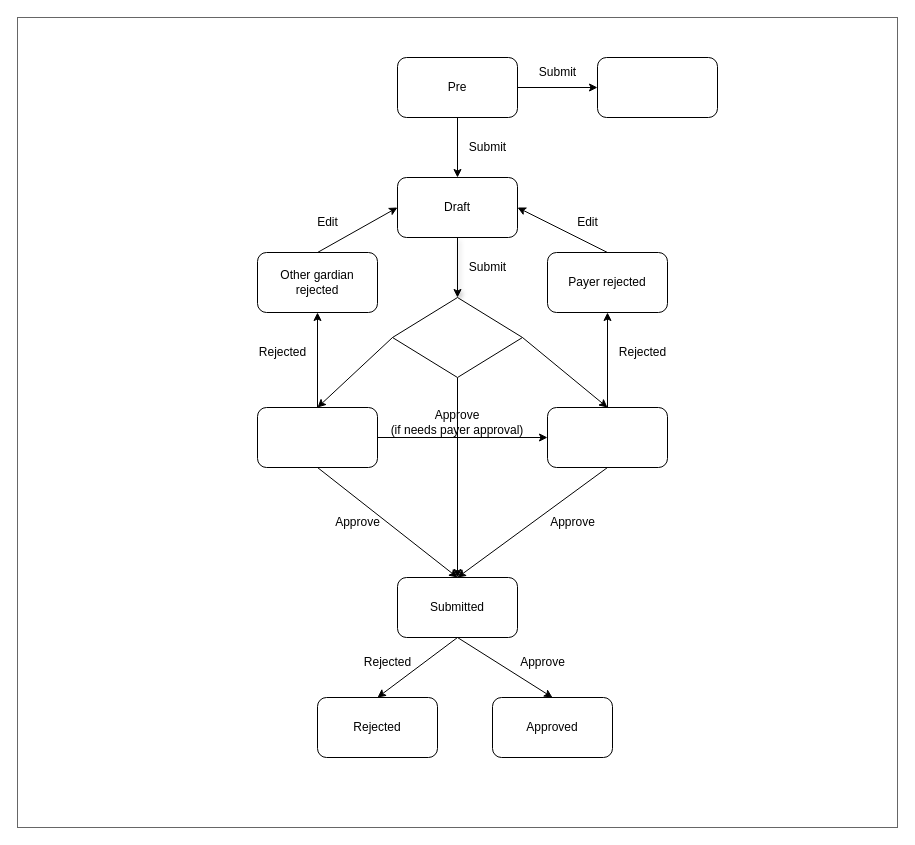
Image size: 915x845. Some labels were removed from this diagram. Here are the shapes that lost their labels. From the top down, the centre of each, then its label:
point (657, 87): ApplicationBlocked
point (457, 337): needs other guardian approval or payer approval?
point (317, 437): Other guardian approval
point (607, 437): Payer approval
